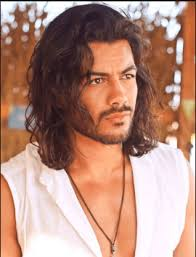middle_eastern_male: (70, 30, 145, 149)
